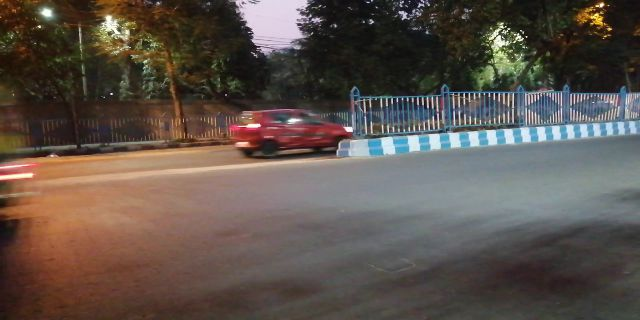Car: (228, 106, 352, 159)
